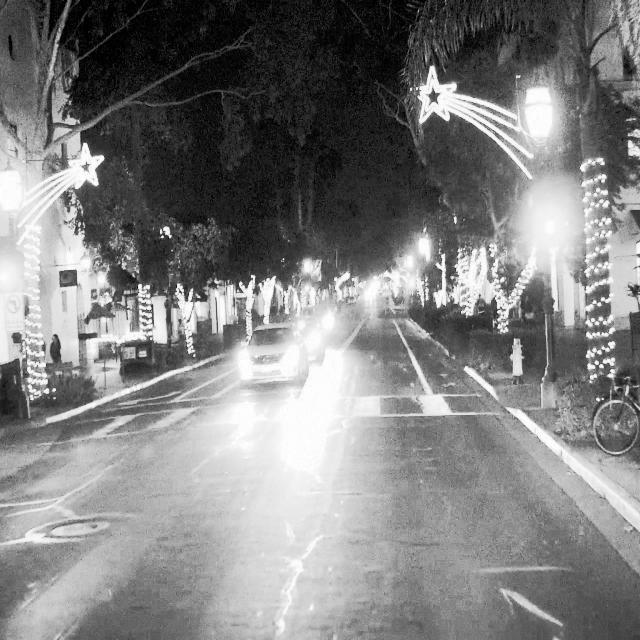Light: (539, 173, 559, 237)
Sign: (5, 292, 25, 332)
Tree: (566, 0, 620, 447), (19, 0, 57, 406)
